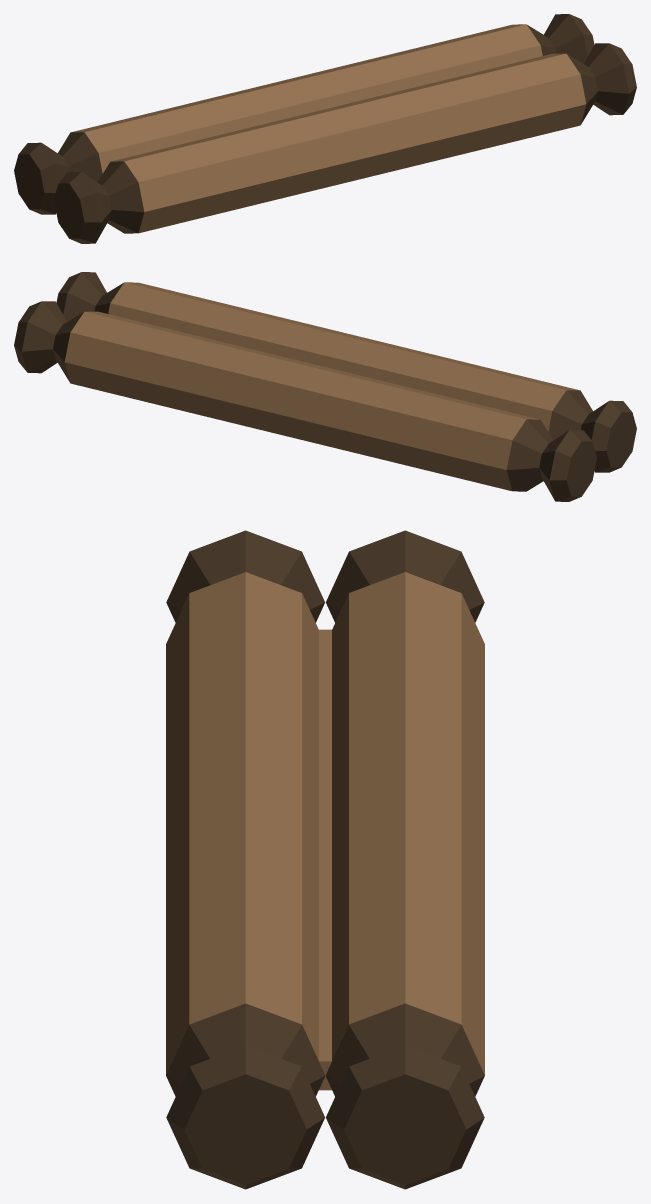
File: Parchment_4_Brown.fbx
3 views of the same model, one above another, from view 1: azimuth 30°, elevation 25°; view 2: azimuth 150°, elevation 25°; view 3: azimuth 270°, elevation 25° (orthographic). The views are drawn at different scales.
Parts seen in each view (by area): view 1: Parchment_4_Brown_Part_2, Parchment_4_Brown_Part_1; view 2: Parchment_4_Brown_Part_2, Parchment_4_Brown_Part_1; view 3: Parchment_4_Brown_Part_2, Parchment_4_Brown_Part_1.
Boxes of the visible parts, x1,y1,x2,y2 form: Parchment_4_Brown_Part_2: [72, 24, 586, 232]; Parchment_4_Brown_Part_1: [14, 14, 636, 243]; Parchment_4_Brown_Part_2: [64, 282, 578, 490]; Parchment_4_Brown_Part_1: [14, 272, 636, 501]; Parchment_4_Brown_Part_2: [166, 572, 484, 1090]; Parchment_4_Brown_Part_1: [166, 530, 484, 1189].
Size of the model in its own units: 40 by 5 by 10.
